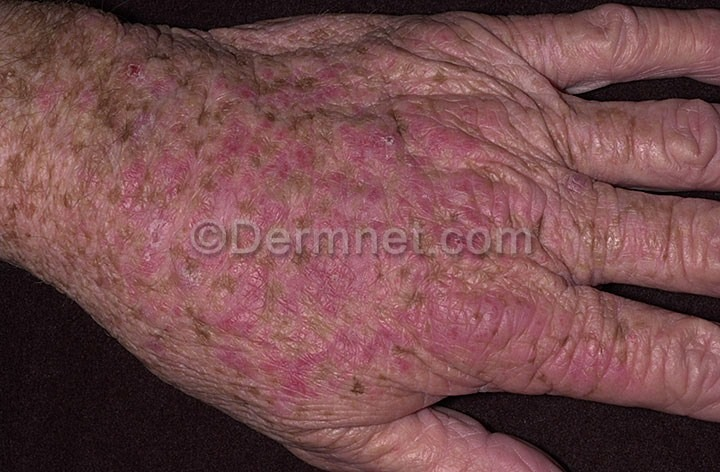Melasma: (79, 5, 563, 221), (55, 259, 657, 429)
